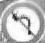Don't turn left: (1, 2, 42, 39)
